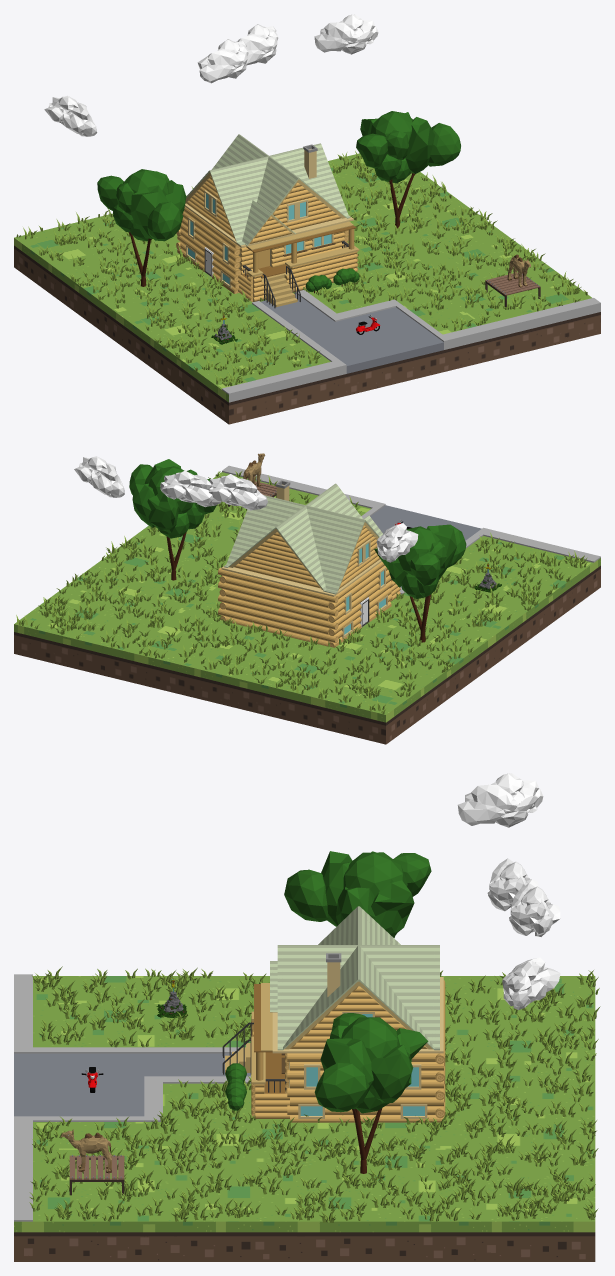
3 renders of one model, top to bottom at view 1: azimuth 30°, elevation 25°; view 2: azimuth 150°, elevation 25°; view 3: azimuth 270°, elevation 25°, orthographic. The views are drawn at different scales.
Visible parts, largest first — view 1: Cube.006, Cube.1516, Circle.012_Grass_0.192, Cube.007, tree, tree.001, Cube.009; view 2: Cube.006, Cube.1516, Circle.012_Grass_0.192, Cube.007, tree.001, tree, ANIMAL_CAMELLO; view 3: Cube.006, Circle.012_Grass_0.192, Cube.1516, tree, Cube.007, tree.001, Cube.009, ANIMAL_CAMELLO.
Boxes of the visible parts, left/top/right/bottom form: Cube.006: left=14, top=153, right=600, bottom=424; Cube.1516: left=176, top=134, right=359, bottom=308; Circle.012_Grass_0.192: left=16, top=151, right=587, bottom=386; Cube.007: left=44, top=14, right=378, bottom=136; tree: left=356, top=111, right=460, bottom=228; tree.001: left=97, top=169, right=186, bottom=286; Cube.009: left=485, top=272, right=540, bottom=306; Cube.006: left=14, top=465, right=600, bottom=744; Cube.1516: left=218, top=480, right=400, bottom=647; Circle.012_Grass_0.192: left=16, top=471, right=587, bottom=713; Cube.007: left=74, top=456, right=418, bottom=562; tree.001: left=374, top=524, right=466, bottom=642; tree: left=129, top=459, right=216, bottom=580; ANIMAL_CAMELLO: left=243, top=453, right=265, bottom=486; Cube.006: left=14, top=974, right=595, bottom=1261; Circle.012_Grass_0.192: left=29, top=966, right=600, bottom=1222; Cube.1516: left=222, top=906, right=445, bottom=1122; tree: left=314, top=1013, right=428, bottom=1173; Cube.007: left=457, top=773, right=560, bottom=1010; tree.001: left=284, top=851, right=431, bottom=937; Cube.009: left=69, top=1155, right=124, bottom=1195; ANIMAL_CAMELLO: left=61, top=1129, right=111, bottom=1173.
Bounding box in the file's own units: 4071 × 2175 × 4040.
Materials: 43 (4 with a texture image).
